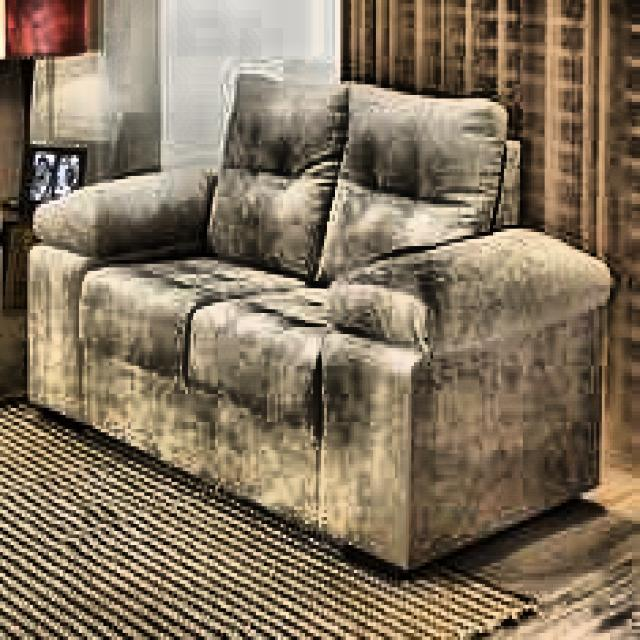sofa: (25, 77, 613, 577)
